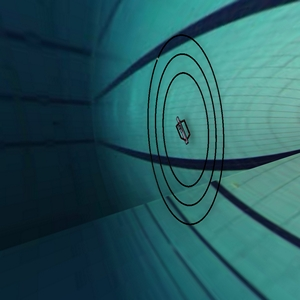circle: (130, 27, 239, 232)
submarine: (169, 107, 195, 147)
